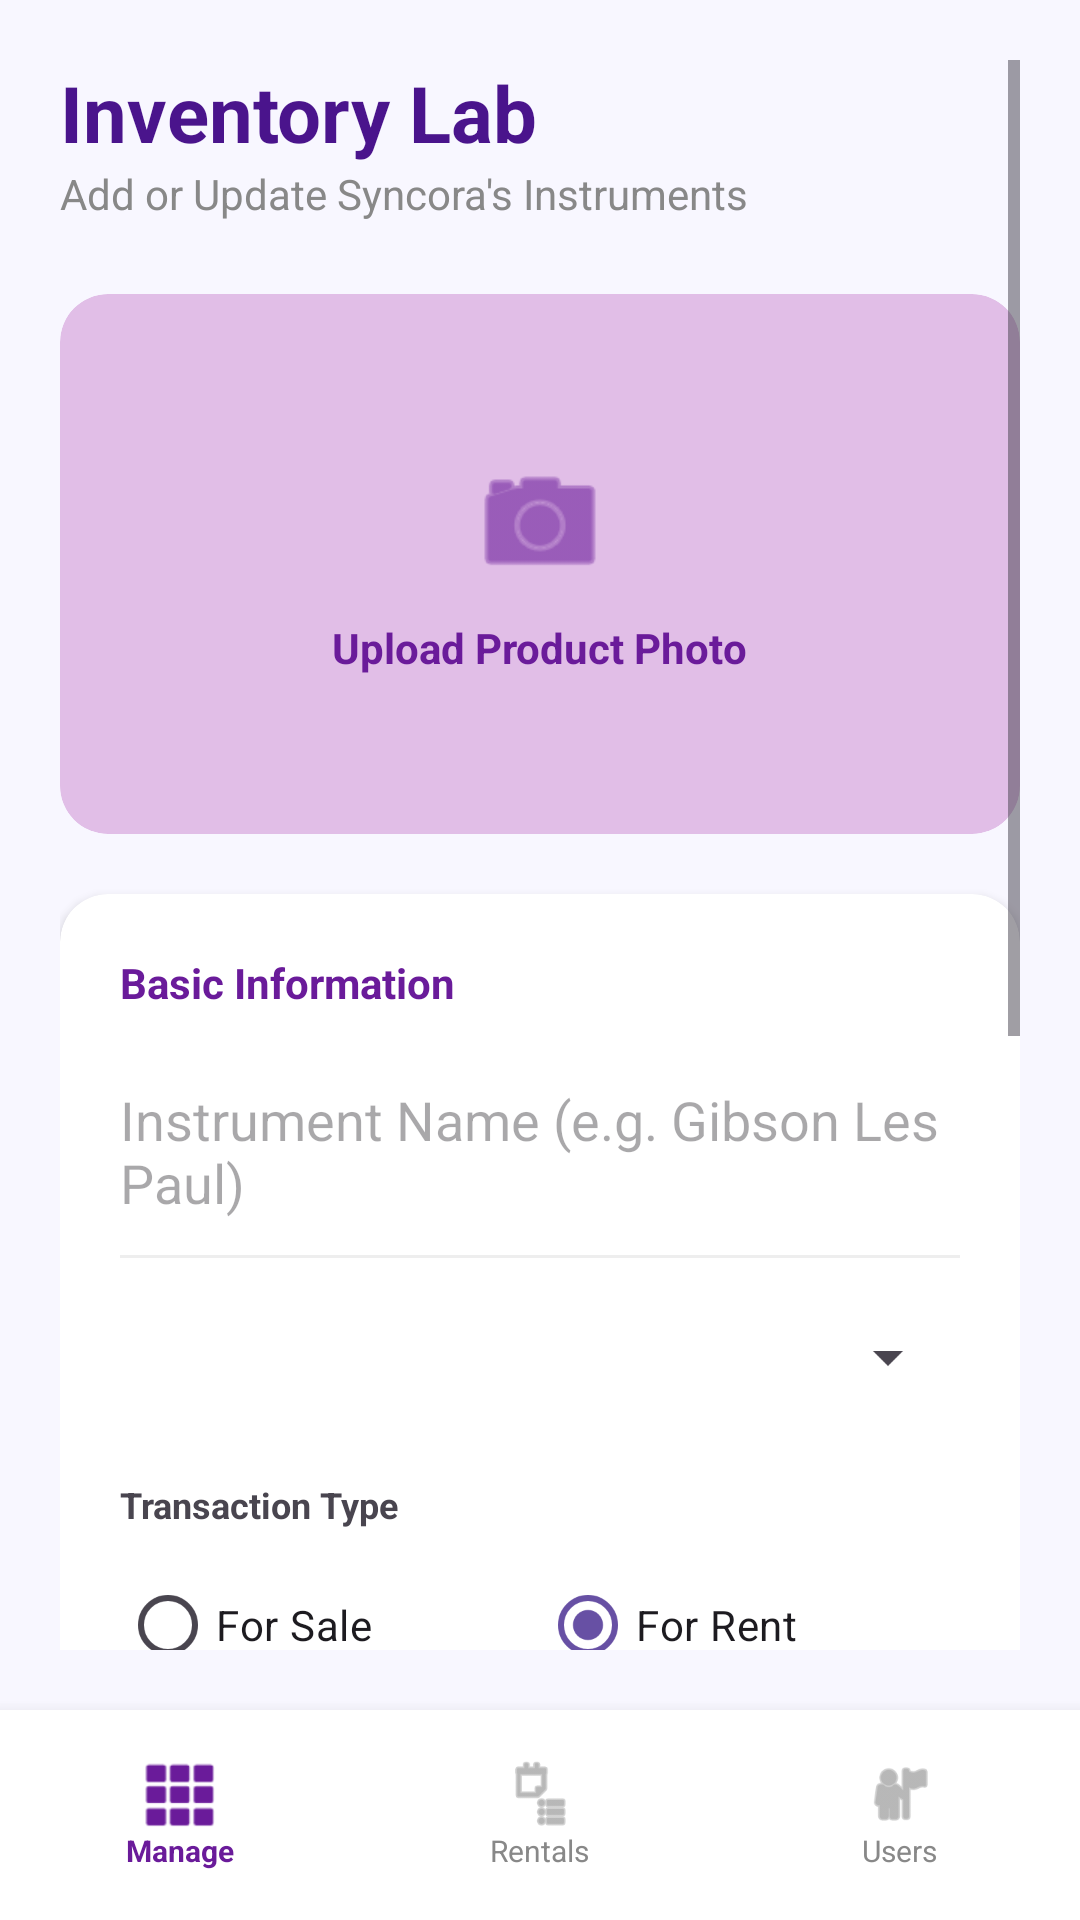

Icons on this 1080px x 1920px Android screen, each with its box as (x1, y1, x2, y2):
agenda: (515, 1762, 565, 1825)
camera: (485, 477, 595, 565)
dialer: (145, 1764, 214, 1826)
